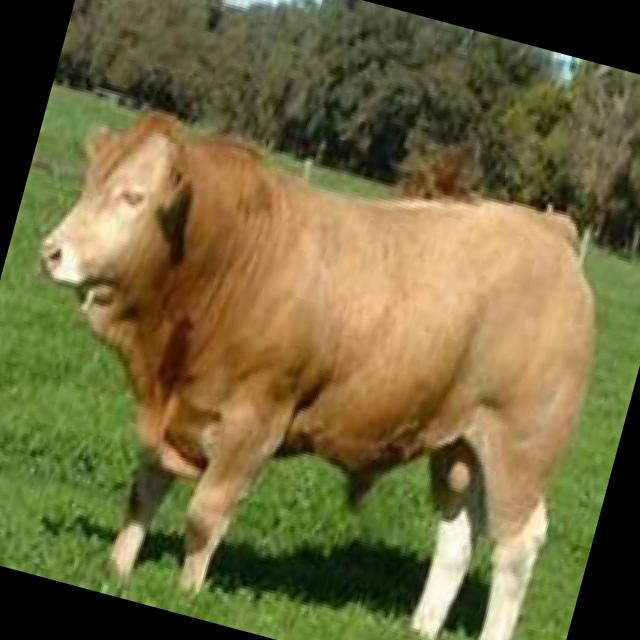animal: (0, 79, 632, 640)
